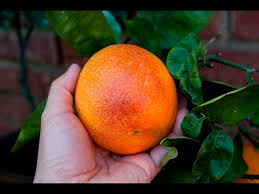orange: (73, 46, 181, 155)
